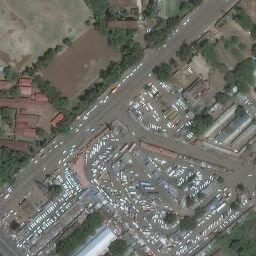tree: (108, 238, 127, 255), (3, 66, 18, 82), (178, 45, 192, 59), (179, 215, 193, 228), (202, 114, 214, 127), (48, 185, 63, 195), (165, 212, 177, 224), (235, 105, 246, 117), (158, 68, 169, 80), (216, 93, 228, 103), (186, 196, 195, 209), (194, 208, 205, 218), (8, 87, 19, 97), (229, 239, 240, 248), (8, 219, 17, 230), (229, 202, 239, 211), (63, 38, 73, 47), (179, 2, 189, 11), (169, 58, 178, 67), (231, 49, 241, 57), (54, 45, 65, 52), (224, 40, 232, 49), (1, 89, 10, 97), (197, 192, 205, 200), (35, 127, 44, 134), (217, 176, 224, 184), (231, 36, 239, 43), (237, 184, 245, 190), (239, 43, 245, 50), (144, 85, 151, 90)
